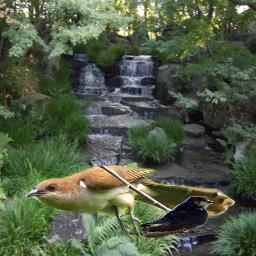Cuckoo: (25, 165, 236, 239)
Swallow: (139, 196, 214, 238)
